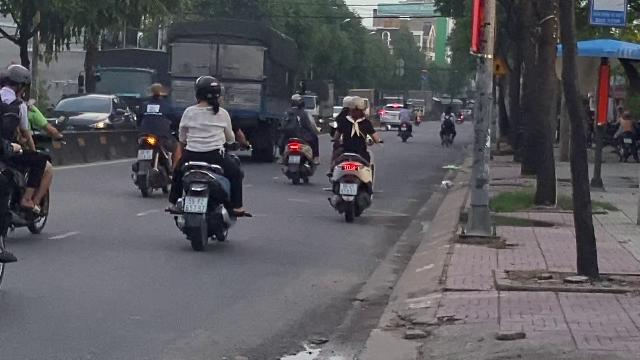helmet: (193, 75, 223, 107), (1, 63, 32, 93), (347, 97, 368, 117)
licenseplate: (184, 196, 206, 212), (340, 183, 356, 194)
motorcyclist: (165, 74, 252, 250), (0, 60, 58, 246), (324, 93, 378, 221)
